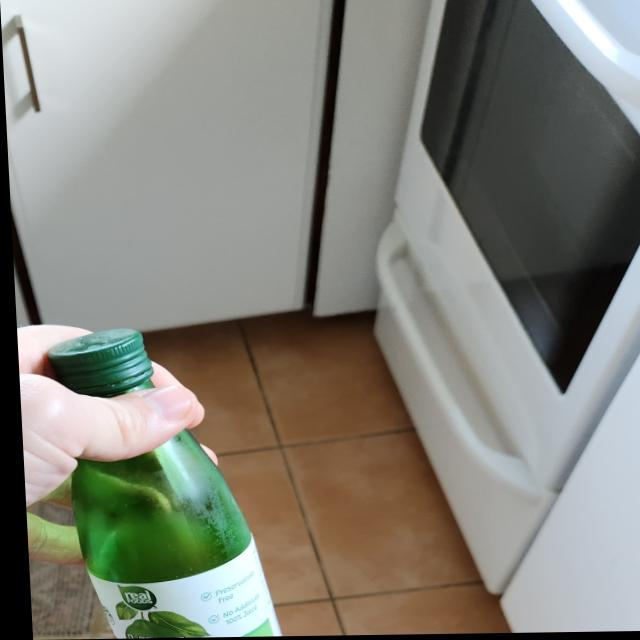lime juice: (45, 325, 285, 640)
